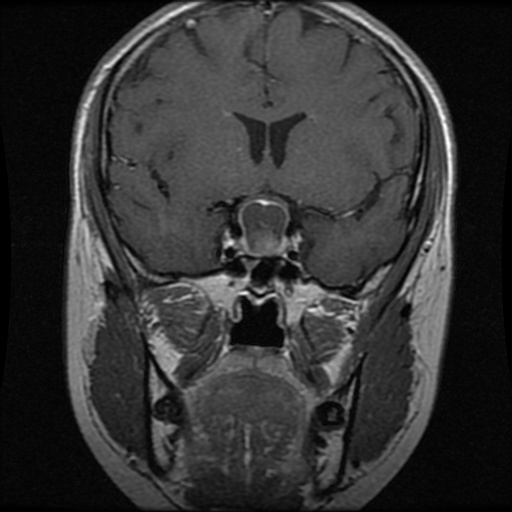pituitary: (240, 199, 287, 256)
